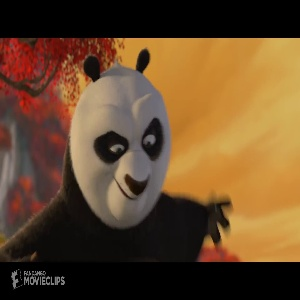po: (10, 47, 236, 262)
